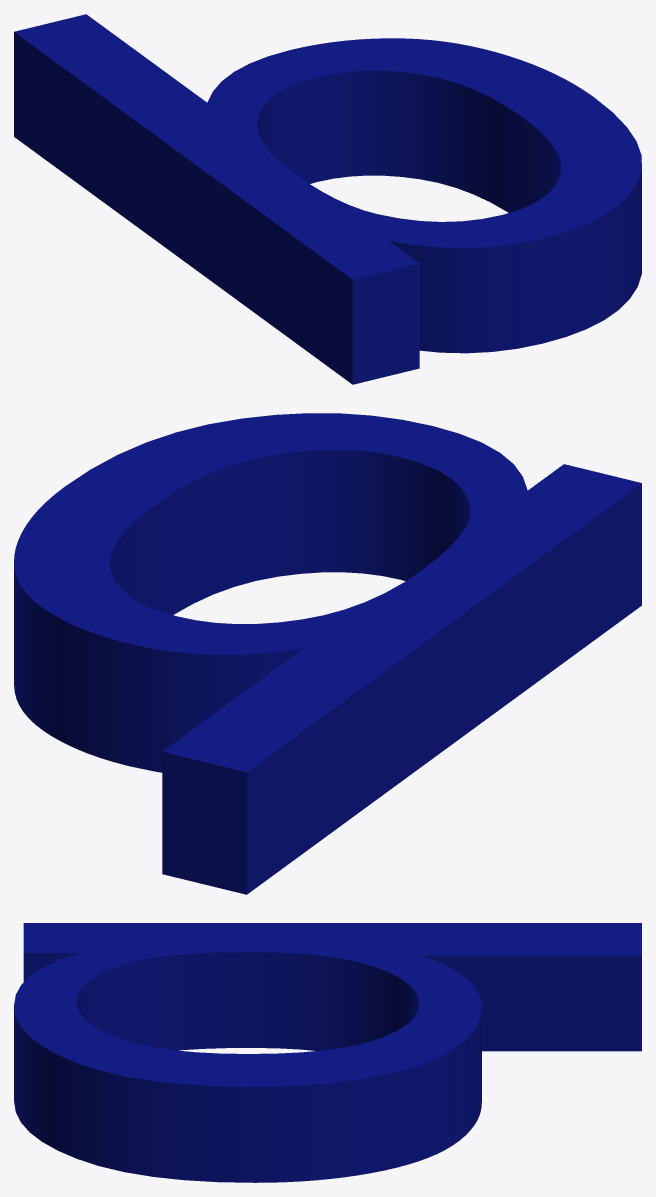
3 renders of one model, top to bottom at view 1: azimuth 30°, elevation 25°; view 2: azimuth 150°, elevation 25°; view 3: azimuth 270°, elevation 25°, orthographic. The views are drawn at different scales.
Parts seen in each view (by area): view 1: TextPlus028; view 2: TextPlus028; view 3: TextPlus028.
Boxes of the visible parts, x1,y1,x2,y2 form: TextPlus028: (14, 14, 641, 384); TextPlus028: (14, 413, 641, 894); TextPlus028: (14, 923, 641, 1182).
Size of the model in its own units: 16.08 by 4.38 by 26.04.
